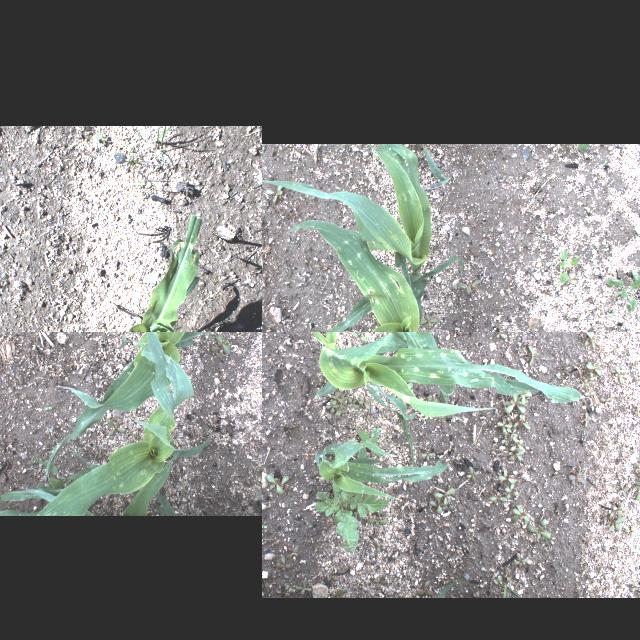crop: (296, 332, 593, 472), (0, 332, 193, 514), (262, 144, 462, 294), (45, 332, 213, 480), (289, 332, 513, 425), (53, 214, 202, 332), (276, 220, 428, 332), (314, 440, 450, 500), (124, 440, 190, 514), (185, 424, 212, 458), (434, 577, 466, 597), (153, 494, 174, 514), (503, 584, 522, 598)
weed: (314, 467, 388, 553), (603, 258, 640, 314), (556, 242, 586, 284), (152, 126, 174, 170), (358, 426, 382, 462), (138, 224, 172, 242), (266, 473, 290, 495), (503, 388, 525, 412), (125, 144, 139, 176), (366, 506, 388, 526), (526, 524, 552, 540), (606, 512, 626, 532), (434, 487, 456, 505), (216, 334, 234, 354), (514, 385, 532, 405), (106, 419, 128, 435), (429, 492, 445, 514), (582, 359, 602, 376), (497, 468, 517, 484), (294, 579, 312, 595), (496, 417, 512, 435), (512, 507, 532, 521), (323, 398, 339, 414), (416, 582, 434, 596), (512, 414, 530, 428), (510, 502, 522, 522), (526, 345, 538, 365), (581, 332, 596, 348), (210, 344, 226, 358), (275, 555, 291, 569), (373, 574, 387, 590), (420, 448, 436, 462), (512, 552, 528, 566), (510, 436, 526, 450), (611, 502, 625, 518), (504, 482, 516, 500), (569, 472, 587, 484), (358, 395, 372, 409), (332, 586, 348, 598), (540, 518, 550, 536), (489, 492, 507, 502), (427, 394, 438, 410), (331, 391, 344, 404), (92, 130, 106, 142), (287, 545, 299, 559), (466, 466, 478, 480), (624, 525, 638, 537), (618, 482, 630, 496), (580, 412, 592, 426), (504, 486, 520, 496), (508, 450, 524, 460), (347, 396, 359, 408), (616, 365, 624, 383), (501, 432, 511, 446), (506, 428, 520, 438), (603, 433, 613, 447), (600, 397, 612, 408), (352, 332, 366, 341), (629, 581, 640, 592), (336, 587, 348, 597), (374, 540, 384, 552), (584, 388, 596, 398), (42, 404, 56, 412), (282, 584, 290, 598), (504, 566, 511, 582), (584, 373, 596, 382), (378, 406, 388, 416), (353, 510, 363, 520), (267, 538, 279, 546), (636, 479, 640, 501), (598, 344, 604, 358), (328, 575, 338, 583), (365, 408, 373, 418), (429, 487, 439, 495), (502, 411, 510, 421), (582, 536, 590, 546), (633, 461, 640, 472), (264, 582, 270, 594), (609, 368, 627, 372), (232, 332, 248, 336), (275, 380, 285, 386), (294, 363, 300, 373), (336, 405, 342, 415), (356, 408, 366, 414), (514, 346, 524, 352), (496, 332, 506, 338), (339, 410, 348, 416), (634, 406, 640, 415), (494, 578, 502, 584), (544, 524, 552, 530), (440, 519, 444, 529), (488, 388, 492, 398), (616, 474, 620, 484), (525, 355, 531, 361), (635, 480, 640, 487), (602, 514, 606, 522), (606, 468, 614, 472), (118, 144, 124, 148), (262, 525, 268, 529), (614, 572, 620, 576), (342, 396, 348, 398), (638, 474, 640, 480)
